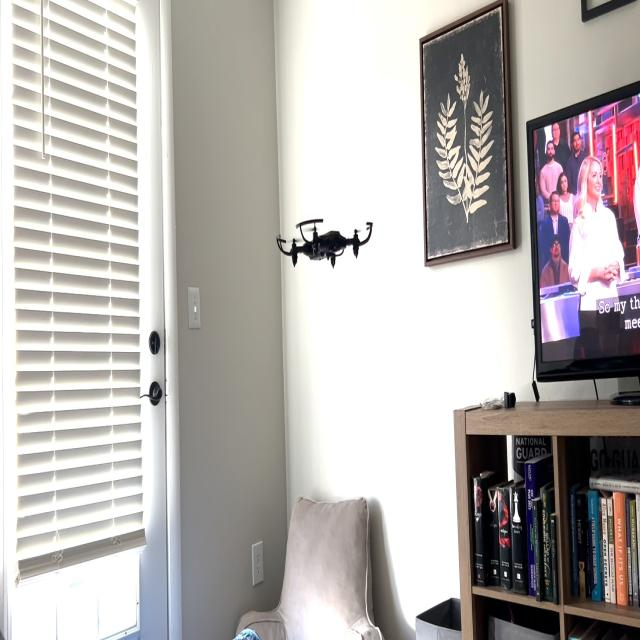drone: (268, 203, 382, 280)
